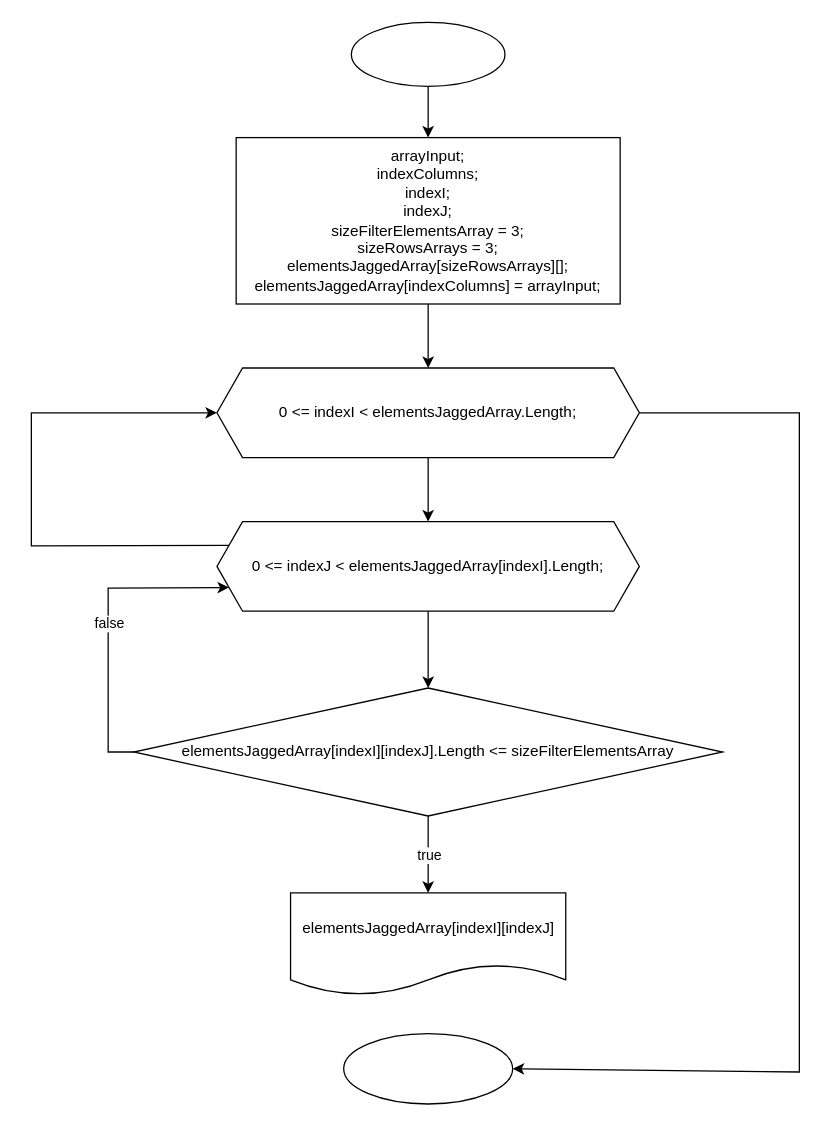
The diagram is 832 pixels wide and 1126 high, and some of its shapes have lost their labels. The centre of each missing label's shape, as x and y in pixels:
"Конец" goes at point 427,1068.
"Начало" goes at point 427,53.
